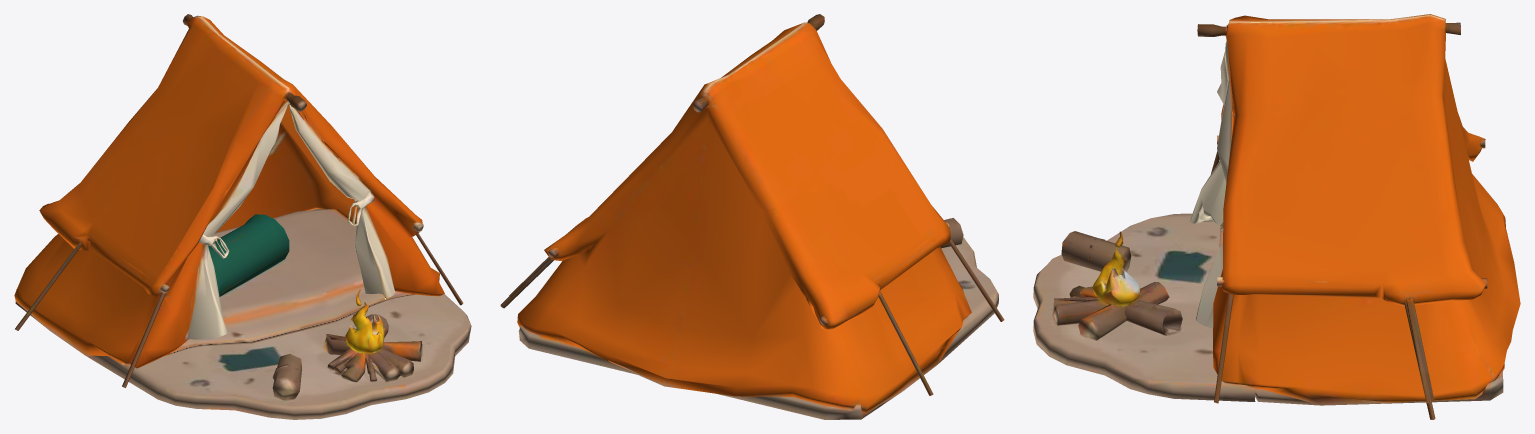
File: camp_site.glb
3 renders of one model, left to right at view 1: azimuth 30°, elevation 25°; view 2: azimuth 150°, elevation 25°; view 3: azimuth 270°, elevation 25°, orthographic. The views are drawn at different scales.
Bounding box in the file's own units: 0.9521 × 0.6045 × 0.8891.
Materials: 1 (1 with a texture image).
